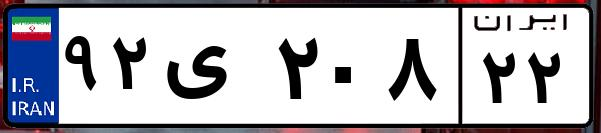0: (330, 28, 385, 110)
2: (270, 28, 330, 110), (475, 38, 525, 113), (525, 38, 570, 115), (110, 28, 158, 98)
8: (385, 28, 445, 110)
9: (57, 26, 110, 100)
ی: (158, 20, 270, 120)
